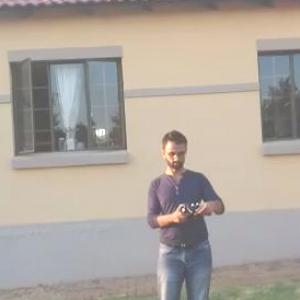follow: (140, 121, 230, 299)
